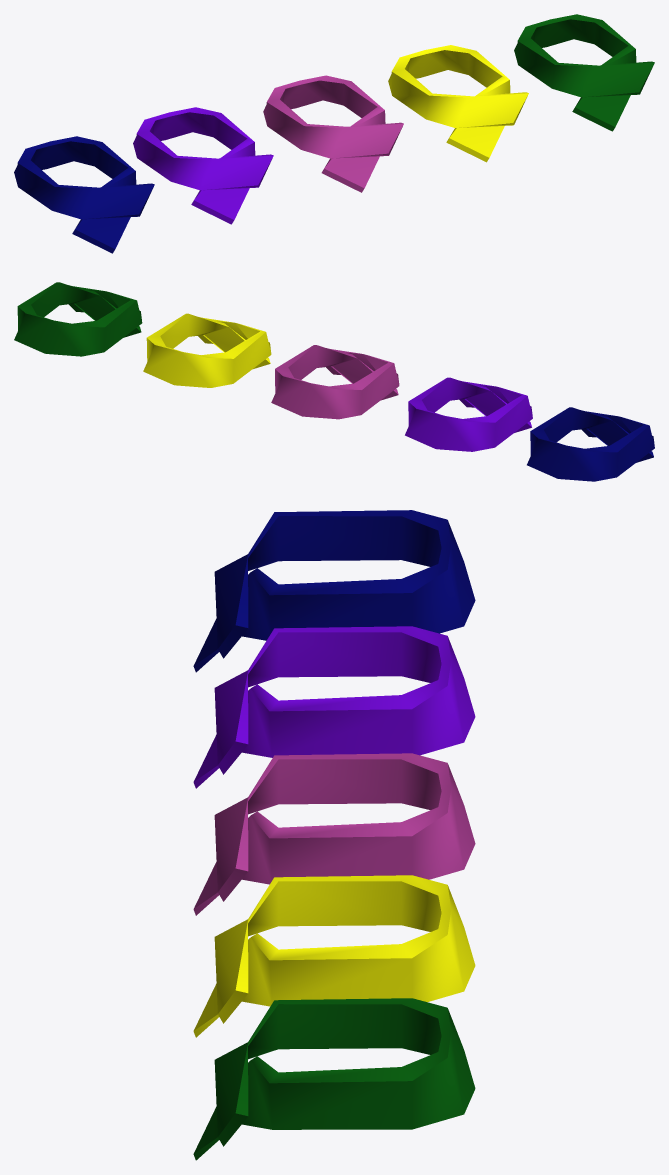
File: mafura_iro.obj
3 views of the same model, one above another, from view 1: azimuth 30°, elevation 25°; view 2: azimuth 150°, elevation 25°; view 3: azimuth 270°, elevation 25° (orthographic). The views are drawn at different scales.
Parts seen in each view (by area): view 1: mafura_iro:pCube3, mafura_iro:pCube4, mafura_iro:pCube5, mafura_iro:pCube6, mafura_iro:pCube7; view 2: mafura_iro:pCube6, mafura_iro:pCube7, mafura_iro:pCube5, mafura_iro:pCube4, mafura_iro:pCube3; view 3: mafura_iro:pCube7, mafura_iro:pCube5, mafura_iro:pCube4, mafura_iro:pCube3, mafura_iro:pCube6.
Part boxes in pixels (x1,y1,x2,y2): mafura_iro:pCube3: (263, 75, 403, 192); mafura_iro:pCube4: (388, 45, 528, 162); mafura_iro:pCube5: (133, 107, 273, 224); mafura_iro:pCube6: (14, 136, 154, 253); mafura_iro:pCube7: (514, 14, 654, 131); mafura_iro:pCube6: (527, 407, 654, 481); mafura_iro:pCube7: (14, 282, 142, 356); mafura_iro:pCube5: (405, 377, 532, 451); mafura_iro:pCube4: (143, 313, 271, 387); mafura_iro:pCube3: (271, 345, 399, 419); mafura_iro:pCube7: (193, 998, 475, 1160); mafura_iro:pCube5: (193, 626, 475, 788); mafura_iro:pCube4: (193, 875, 475, 1037); mafura_iro:pCube3: (193, 753, 475, 915); mafura_iro:pCube6: (193, 510, 475, 672).
Size of the model in its own units: 14.68 by 1.54 by 3.02.
